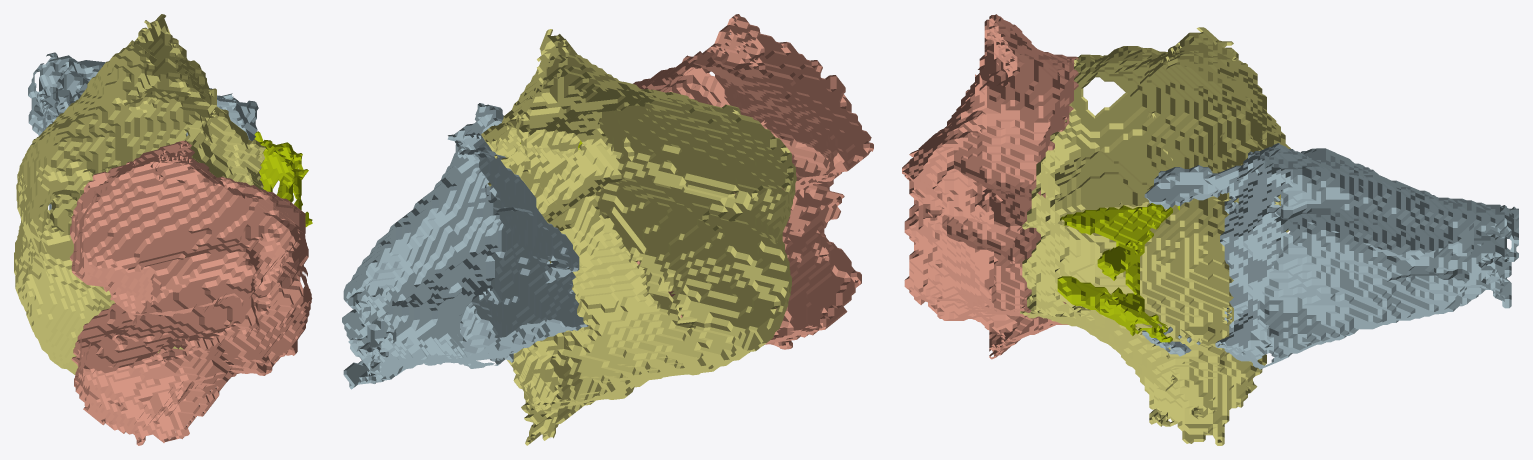
The model's file is brainstemSsLabels.glb.
The picture shows the model from 3 angles, left to right: view 1: azimuth 30°, elevation 25°; view 2: azimuth 150°, elevation 25°; view 3: azimuth 270°, elevation 25°; orthographic projection. The views are drawn at different scales.
Visible parts, largest first — view 1: 173_Midbrain, 174_Pons, 175_Medulla, 178_SCP; view 2: 174_Pons, 175_Medulla, 173_Midbrain; view 3: 174_Pons, 175_Medulla, 173_Midbrain, 178_SCP.
Part boxes in pixels (<box>): 173_Midbrain: <box>69,140,312,445</box>; 174_Pons: <box>14,14,265,374</box>; 175_Medulla: <box>28,52,258,210</box>; 178_SCP: <box>254,131,312,226</box>; 174_Pons: <box>481,29,796,445</box>; 175_Medulla: <box>342,103,588,389</box>; 173_Midbrain: <box>633,14,873,349</box>; 174_Pons: <box>1020,27,1290,445</box>; 175_Medulla: <box>1142,143,1518,369</box>; 173_Midbrain: <box>902,14,1078,359</box>; 178_SCP: <box>1057,203,1179,342</box>.
Size of the model in its own units: 41.5 by 48.5 by 65.5.
